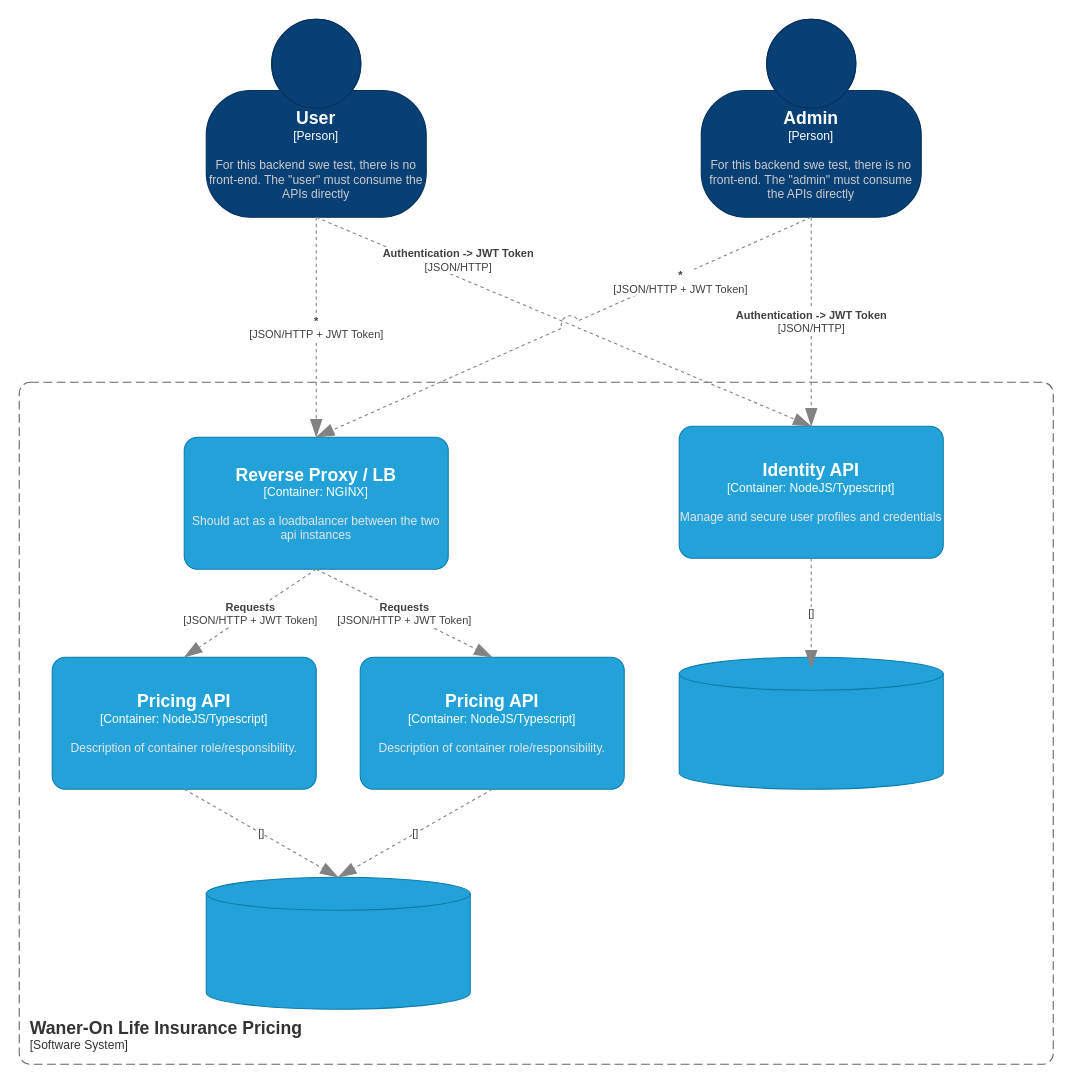
The diagram is 1073 pixels wide and 1084 high, and some of its shapes have lost their labels. Here are the shapes that lost their labels. From the top down, the box of each, then its label:
(678, 656, 943, 789): Identity Database [Container: Postgres] User profiles and credentials store
(205, 876, 470, 1009): Pricing Database [Container: Postgres]
